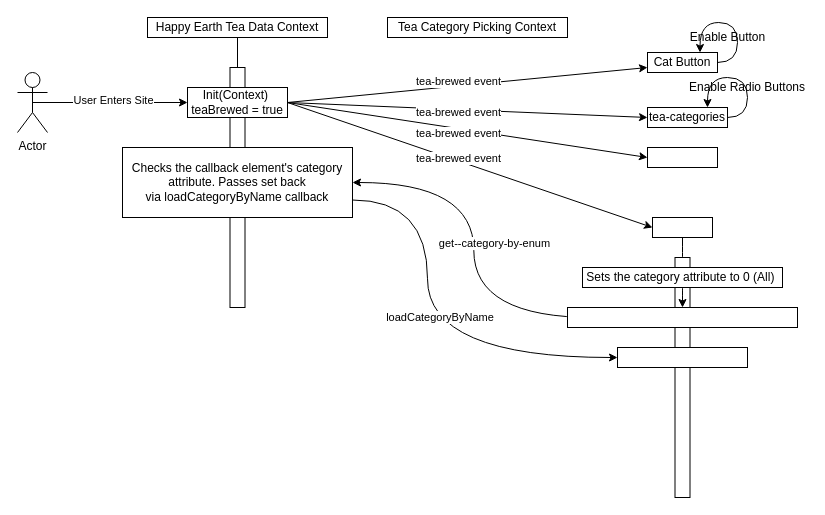
Image size: 825x515. Some labels were removed from this diagram. The shapes that lost their labels are listed below. From the top down, each one's centre as x and y in pixels, then its label:
[682,157]: Tea Result
[682,227]: Tea Pool
[682,317]: Sends Event get-categories-by-enum up
[682,357]: Updates List of TeaPool
